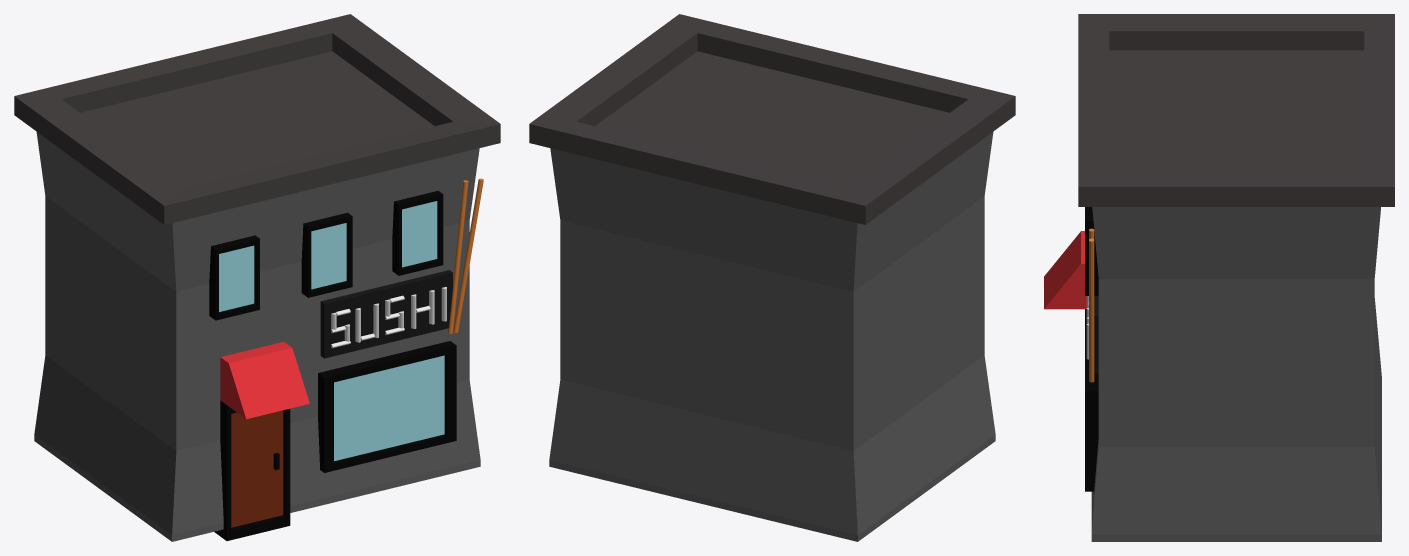
The model's file is sushi.fbx.
The picture shows the model from 3 angles, left to right: view 1: azimuth 30°, elevation 25°; view 2: azimuth 150°, elevation 25°; view 3: azimuth 270°, elevation 25°; orthographic projection. The views are drawn at different scales.
Visible parts, largest first — view 1: Cube; view 2: Cube; view 3: Cube.
Boxes of the visible parts, bbox=[...] form: Cube: bbox=[14, 14, 500, 541]; Cube: bbox=[529, 14, 1015, 541]; Cube: bbox=[1044, 14, 1394, 541].
Bounding box in the file's own units: 2157 × 2166 × 1850.
